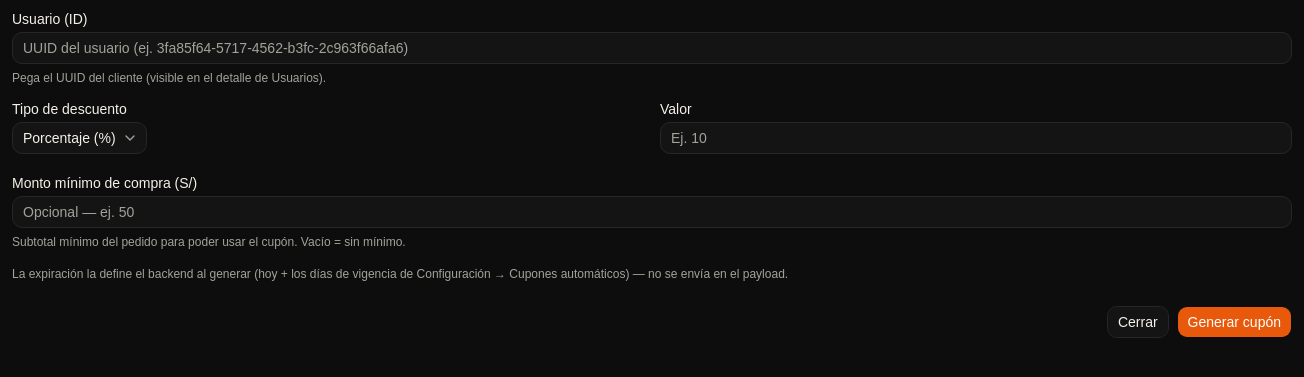
Test case: GenerateCouponForm › mapea el 404 de usuario inexistente al campo userId
Type "3fa85f64-5717-4562-b3fc-2c963f66afa6" into the field labelled "Usuario (ID)". click: (652, 48)
box: [12,32,1292,64]
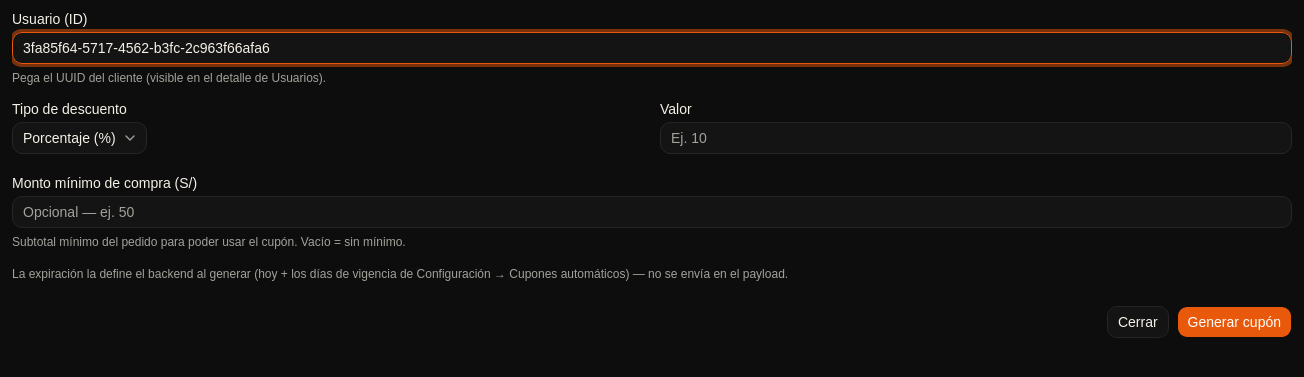
Type "10" into the number field labelled "Valor". click: (976, 138)
box: [660,122,1292,154]
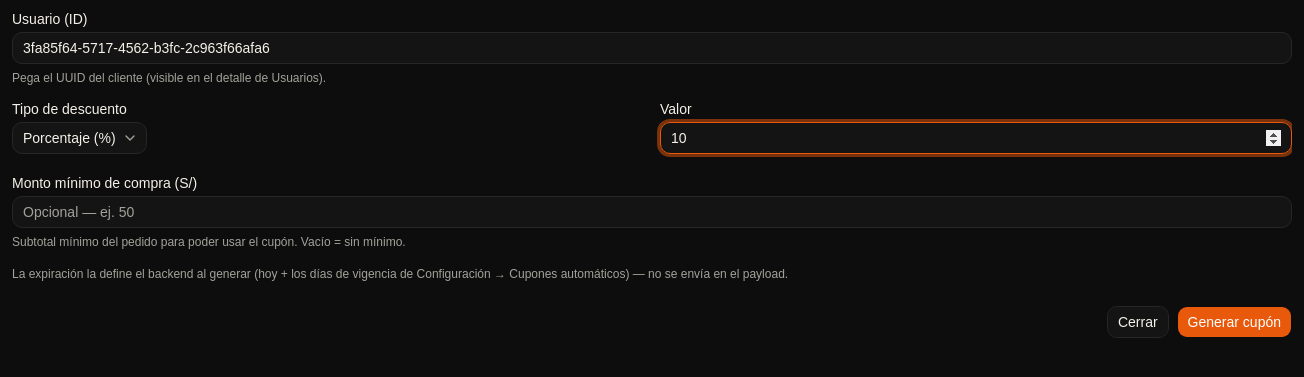
Click the button "Generar cupón". click: (1234, 322)
box: [1177,306,1292,338]
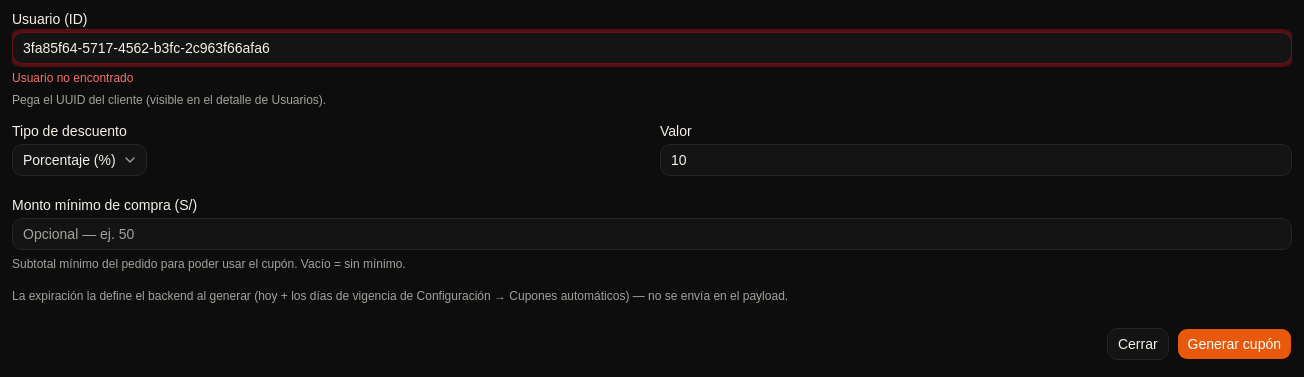
Now the text "Usuario no encontrado" is shown, box [12,71,133,85]
